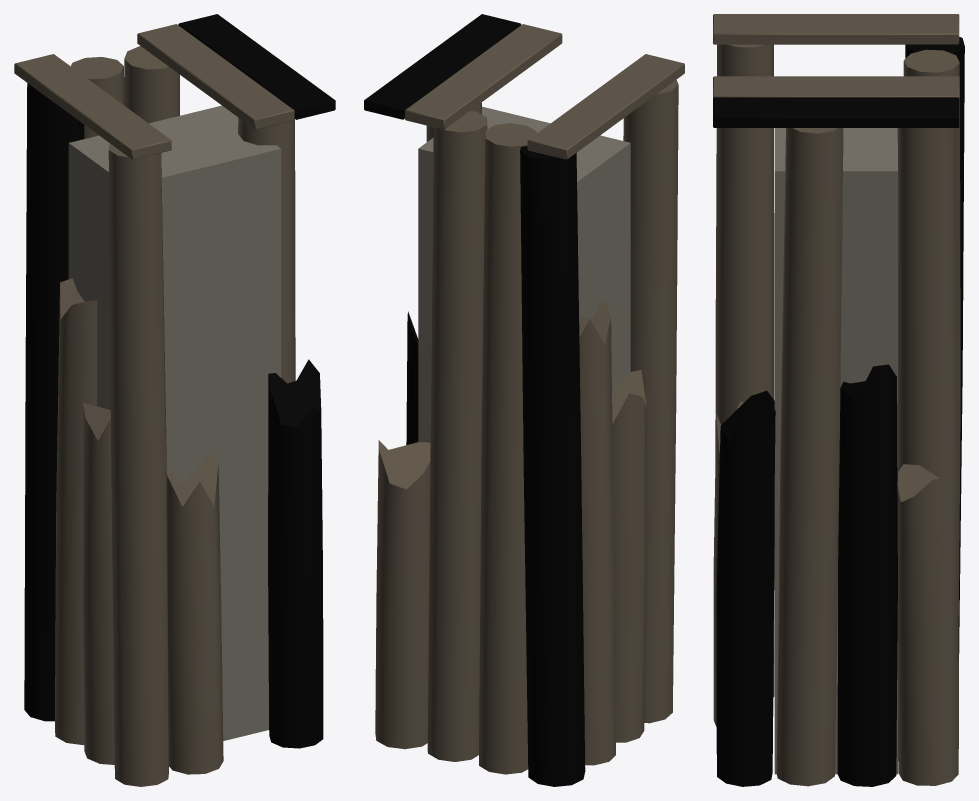
File: festung_holz_1m_kaputt.glb
3 views of the same model, side by side, from view 1: azimuth 30°, elevation 25°; view 2: azimuth 150°, elevation 25°; view 3: azimuth 270°, elevation 25° (orthographic). The views are drawn at different scales.
Parts seen in each view (by area): view 1: festung_holz_1m_kaputt; view 2: festung_holz_1m_kaputt; view 3: festung_holz_1m_kaputt.
Boxes of the visible parts, left/top/right/bottom form: festung_holz_1m_kaputt: left=14, top=14, right=335, bottom=786; festung_holz_1m_kaputt: left=364, top=14, right=684, bottom=786; festung_holz_1m_kaputt: left=713, top=14, right=964, bottom=786.
Size of the model in its own units: 1.04 by 3 by 1.02.
